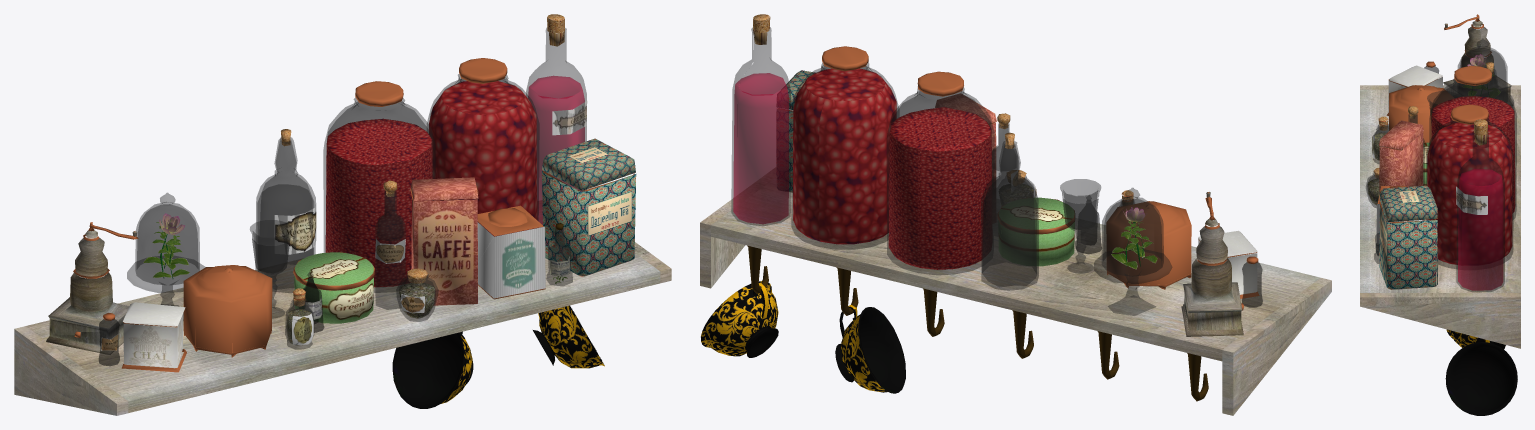
File: coci_pantry_shelf.glb
3 views of the same model, side by side, from view 1: azimuth 30°, elevation 25°; view 2: azimuth 150°, elevation 25°; view 3: azimuth 270°, elevation 25° (orthographic). The views are drawn at different scales.
Visible parts, largest first — view 1: Cube.022_0; view 2: Cube.022_0; view 3: Cube.022_0.
Part boxes in pixels (<box>): Cube.022_0: <box>14,14,671,415</box>; Cube.022_0: <box>700,14,1331,415</box>; Cube.022_0: <box>1360,14,1520,415</box>.
Bounding box in the file's own units: 1.2 × 0.7231 × 0.3793.
Materials: 22 (15 with a texture image).
